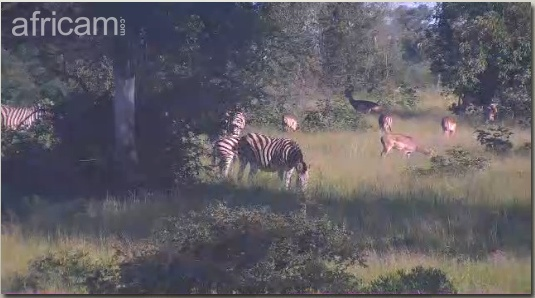zebra: (275, 161, 350, 217), (227, 144, 264, 217)
